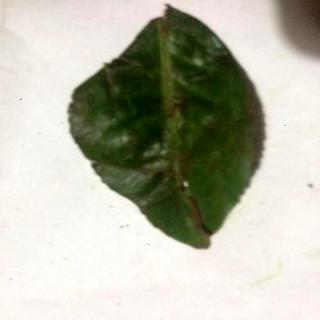Red Leaf Spot: (70, 5, 254, 249)
